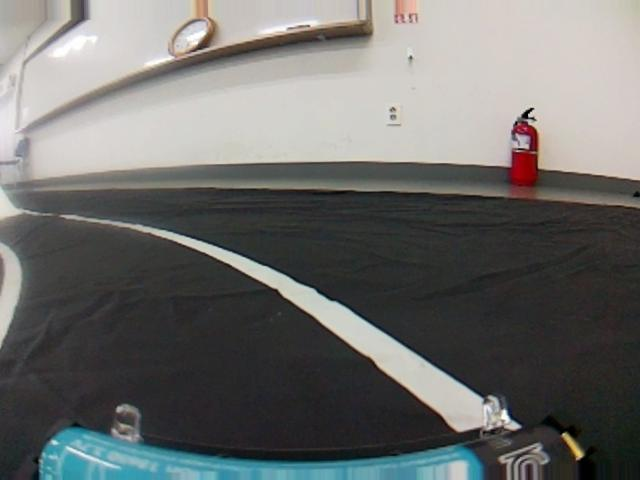left: (0, 202, 636, 479)
